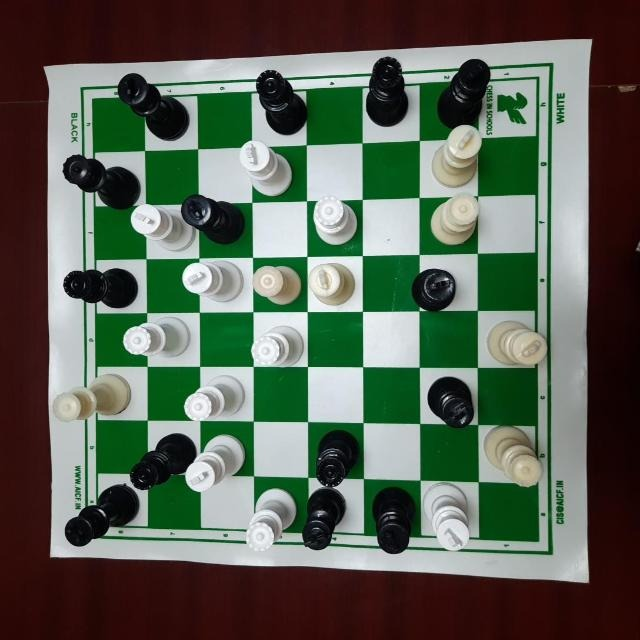black-king: (114, 67, 195, 144), (61, 482, 145, 549), (435, 51, 497, 122), (367, 481, 417, 561), (298, 492, 356, 560), (181, 194, 242, 246), (422, 371, 476, 429), (406, 265, 463, 315)
black-queen: (56, 150, 147, 210), (245, 65, 318, 139), (56, 263, 140, 314), (361, 53, 413, 135), (129, 431, 197, 489), (131, 430, 199, 488), (305, 424, 362, 484)
white-king: (425, 125, 495, 193), (418, 483, 483, 555), (184, 431, 252, 497), (480, 318, 549, 376), (236, 138, 300, 198), (127, 204, 197, 254), (181, 258, 247, 309), (303, 258, 365, 312), (125, 208, 200, 252)
white-queen: (50, 366, 137, 427), (234, 481, 300, 559), (52, 369, 137, 427), (117, 311, 201, 369), (479, 421, 550, 489), (116, 308, 191, 364), (304, 193, 368, 256), (303, 192, 364, 254), (183, 374, 255, 424), (424, 188, 481, 249), (247, 258, 311, 312), (249, 321, 305, 375), (249, 260, 305, 308)
